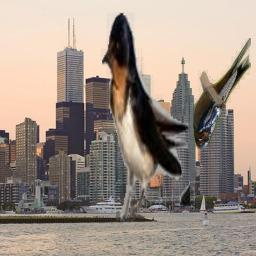Swallow: (101, 12, 190, 227), (193, 38, 251, 149)
